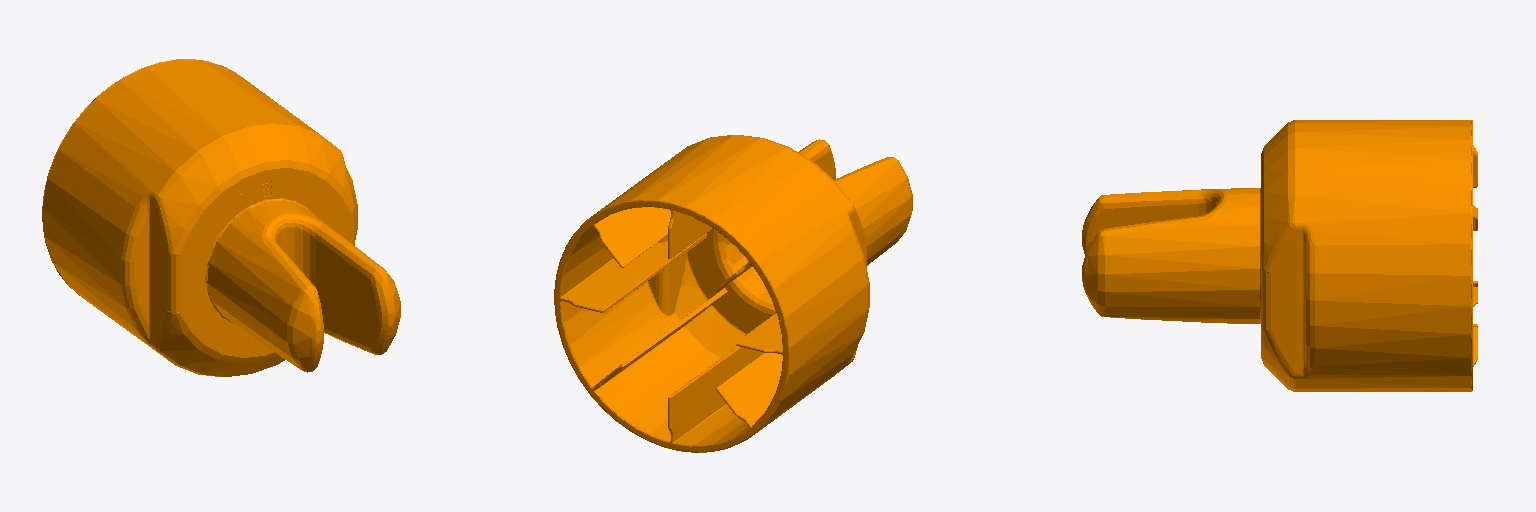
Rendered from VIQRC-MixAndMatch-H2H-_-GameObjects_OrangePin.obj.
The picture shows the model from 3 angles: view 1: azimuth 30°, elevation 25°; view 2: azimuth 150°, elevation 25°; view 3: azimuth 270°, elevation 25°; orthographic projection.
Parts seen in each view (by area): view 1: Body1; view 2: Body1; view 3: Body1.
Part boxes in pixels (x1,y1,x2,y2): Body1: (42,59,400,376); Body1: (554,135,912,452); Body1: (1082,120,1477,391).
Size of the model in its own units: 79.86 by 80 by 116.